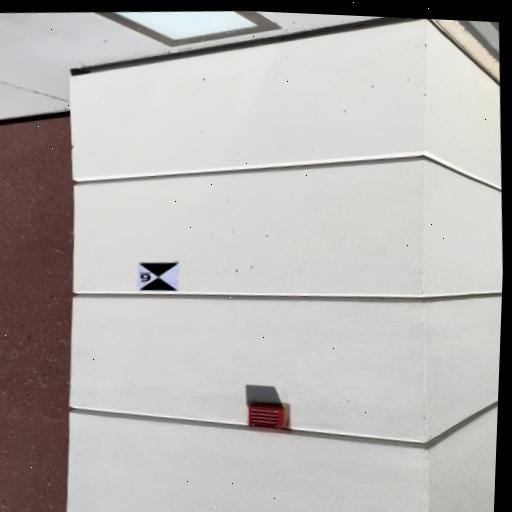target6: (138, 262, 180, 291)
